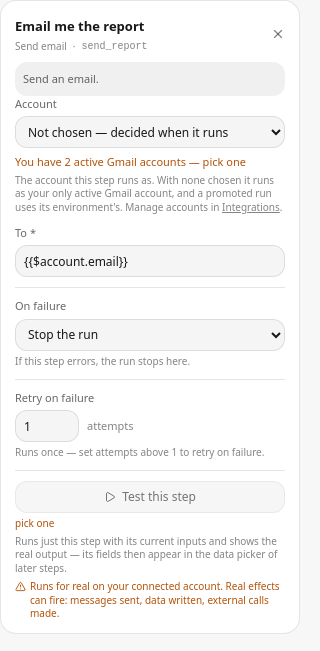
Test case: the step's account, as the run would decide it › a pick asks once more, and only after it settles
Expected: the text with test id "connection-run-as" reads "You have 2 active Gmail accounts — pick one", x1=15 y1=154 x2=246 y2=169
Select "gmail · work@e2e.local" in the dropdown named "Account" at coordinates (150, 132), box x1=15 y1=116 x2=285 y2=148
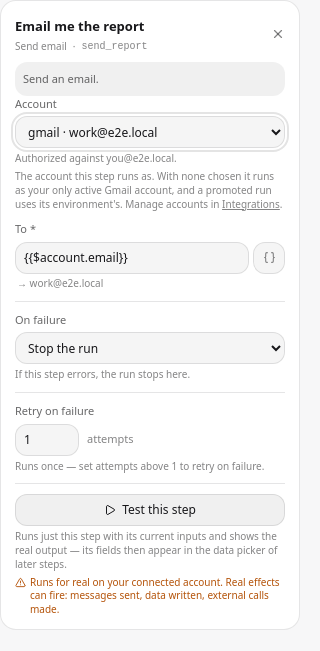
Now the text with test id "connection-run-as" is gone
Now the text "Authorized against you@e2e.local." is shown, box x1=15 y1=151 x2=177 y2=165
